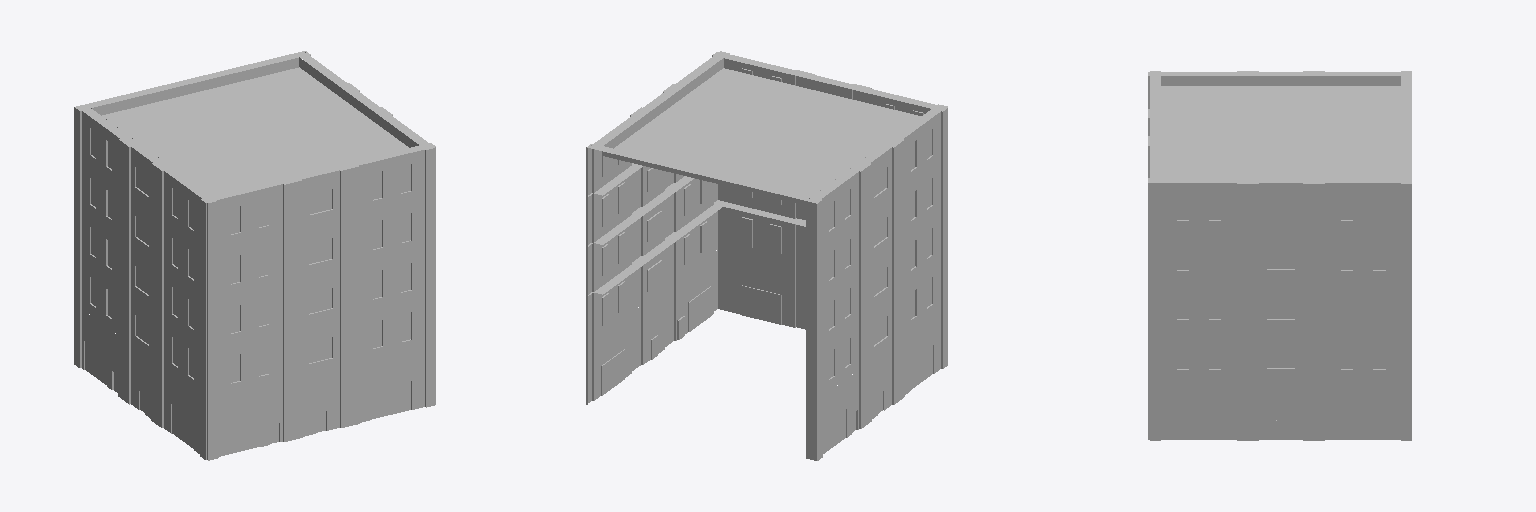
File: ShortBuilding1.obj
3 views of the same model, side by side, from view 1: azimuth 30°, elevation 25°; view 2: azimuth 150°, elevation 25°; view 3: azimuth 270°, elevation 25° (orthographic).
Parts seen in each view (by area): view 1: ShortBuilding1; view 2: ShortBuilding1; view 3: ShortBuilding1.
Part boxes in pixels (bbox=[...]): ShortBuilding1: bbox=[74, 51, 435, 460]; ShortBuilding1: bbox=[586, 51, 947, 460]; ShortBuilding1: bbox=[1148, 71, 1411, 440].
Size of the model in its own units: 24.39 by 26 by 24.19.